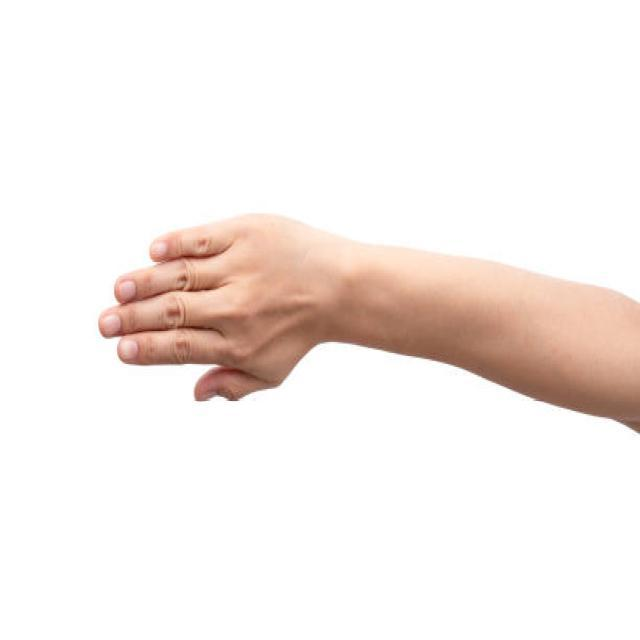Fingernail: (101, 315, 121, 336), (119, 341, 140, 361), (119, 281, 136, 303), (153, 242, 169, 260)
